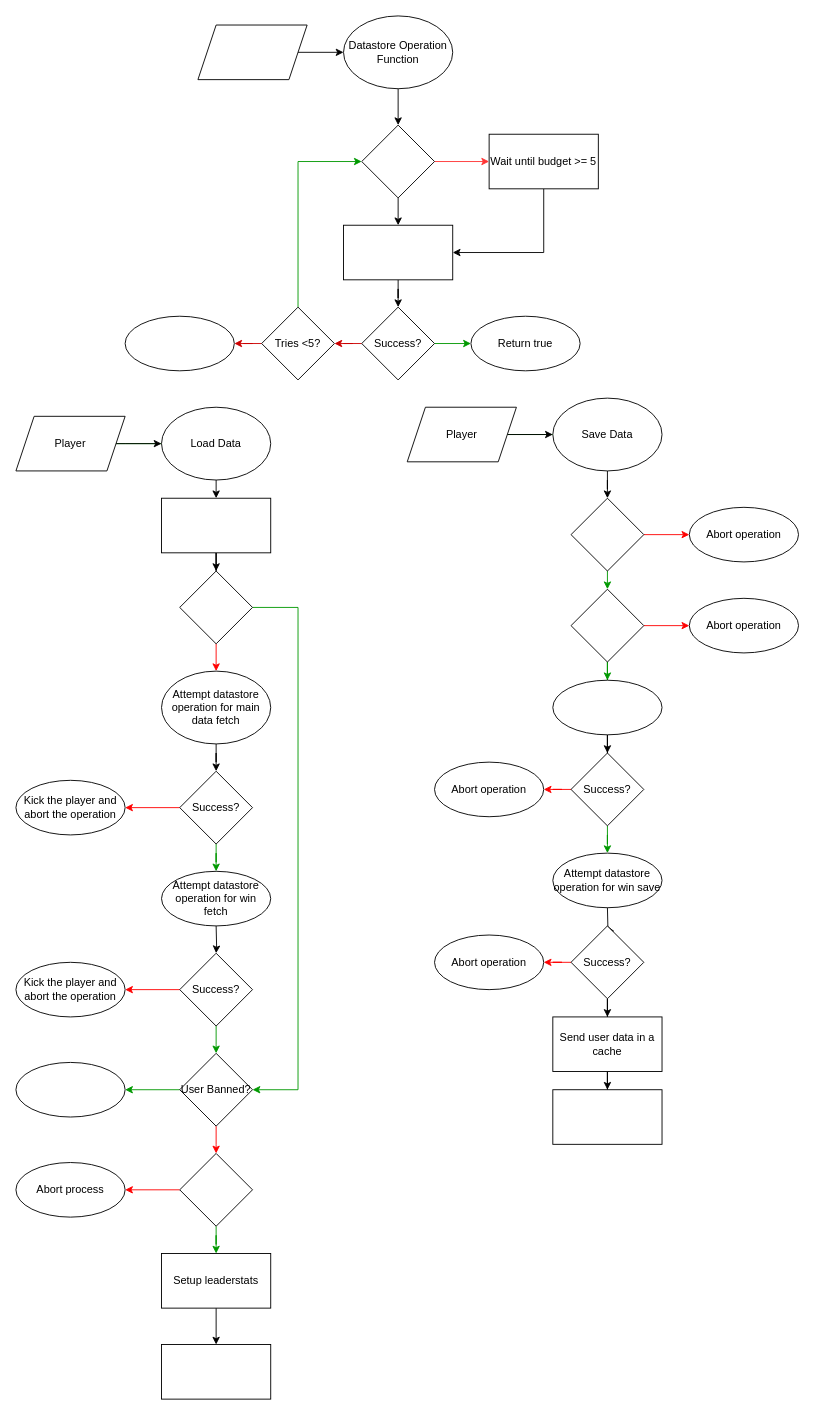
Image size: 814x1415. Some labels were removed from this diagram. The centre of each missing label's shape, as x and y in pixels:
Attempt datastore operation for main data save: the point at 607,707
Attempt to execute function: the point at 398,252
Budget >= 5?: the point at 398,161
De-Register the user from the user data dictionary: the point at 607,1116
Function, Budget Type: the point at 252,52
Get join unix time: the point at 216,525
Kick user with ban reason: the point at 70,1089
Player Joined > 10s ago?: the point at 607,625
Player registered to the user data dictionary?: the point at 607,534
Register user to user data dictionary: the point at 216,1371
Return false: the point at 179,343
User cache found and under 30s old?: the point at 216,607
User still in game?: the point at 216,1189
